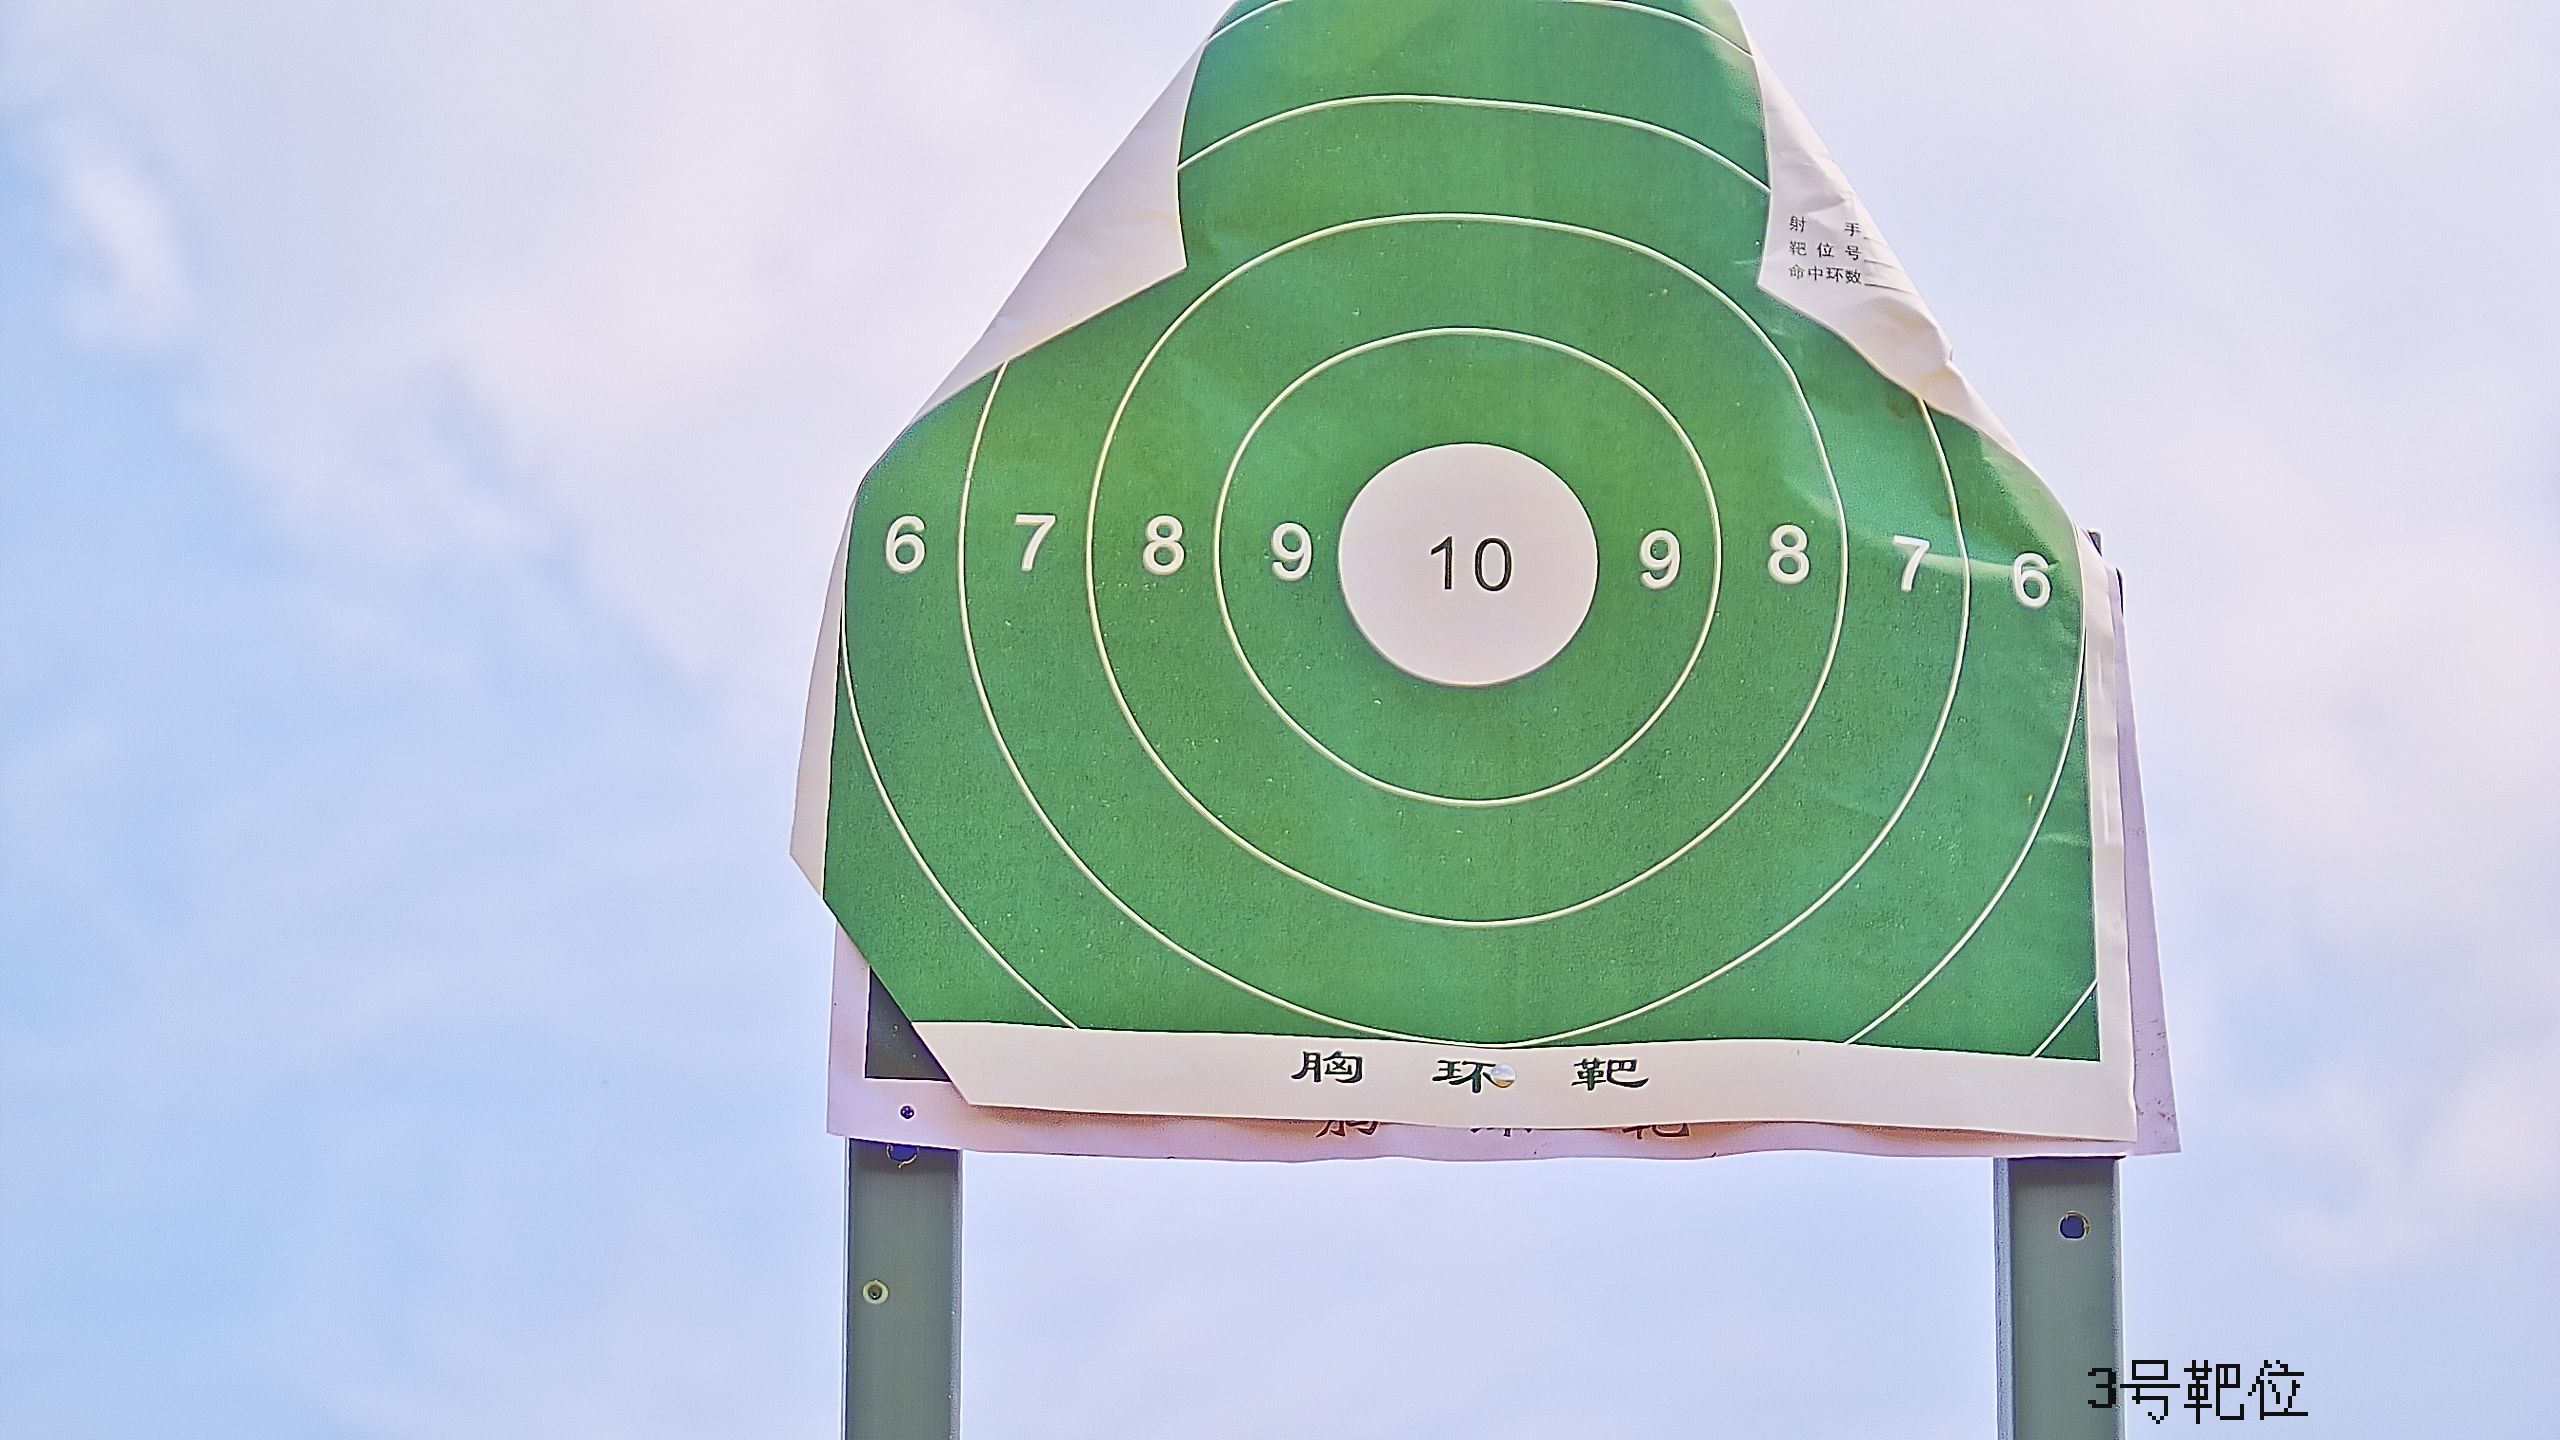target: (826, 2, 2110, 1071)
ten: (1336, 445, 1600, 687)
